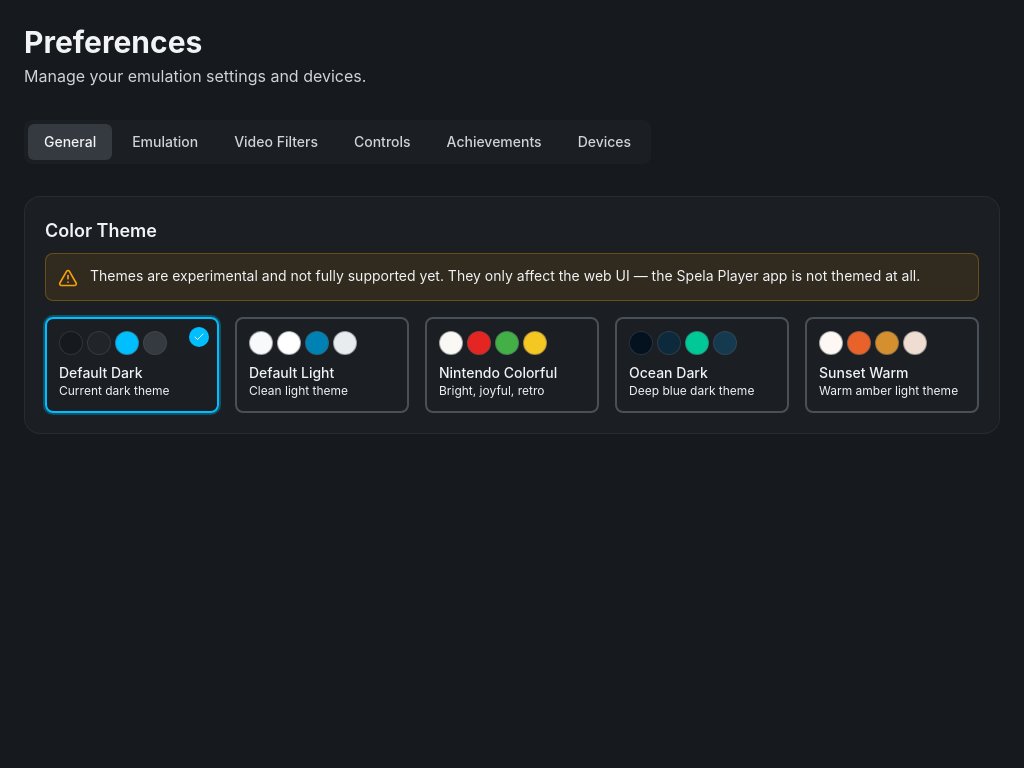
Test: PreferencesPage › expands device to show shader overrides
The image size is (1024, 768).
Click the tab "Devices". click: (604, 142)
box: [562,124,647,160]
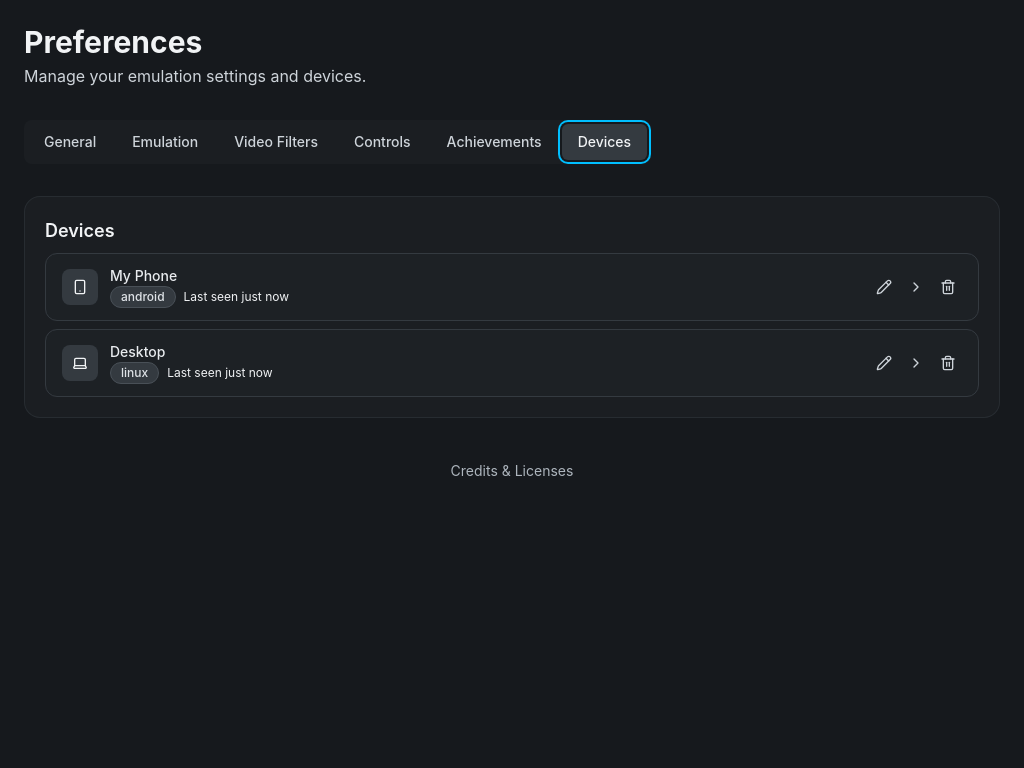
Click the button titled "Shader overrides" in the row of "My Phone". click: (916, 287)
box: [902,273,930,301]
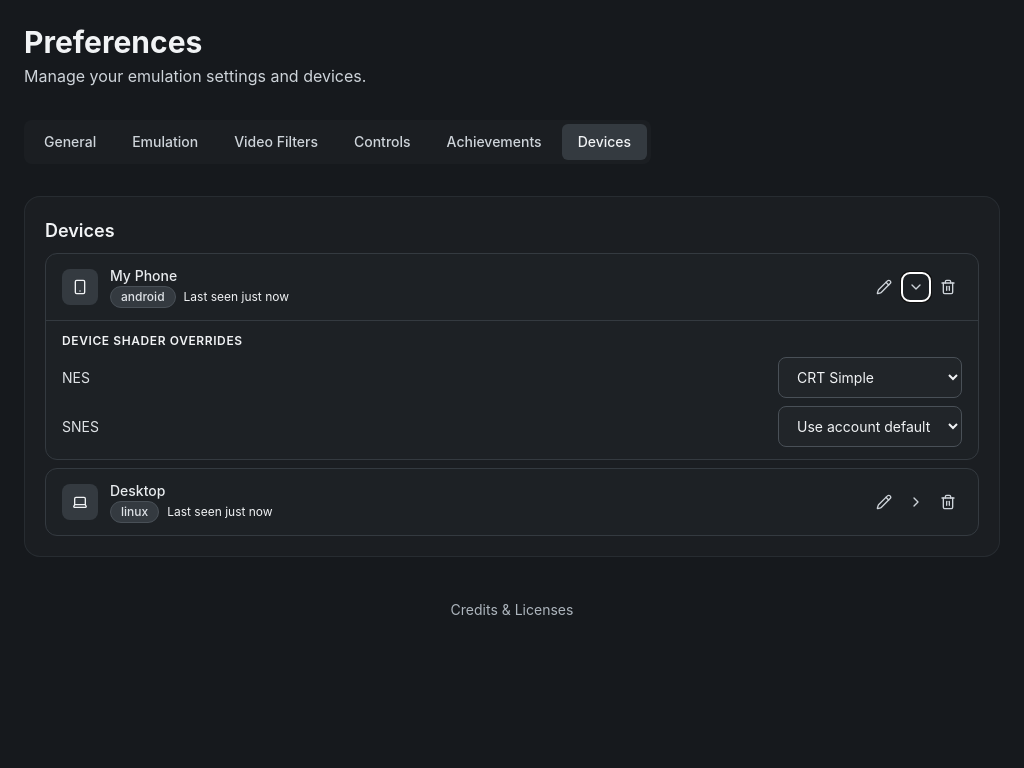
expect the text "Device Shader Overrides" is shown: met, box [62,333,243,348]
